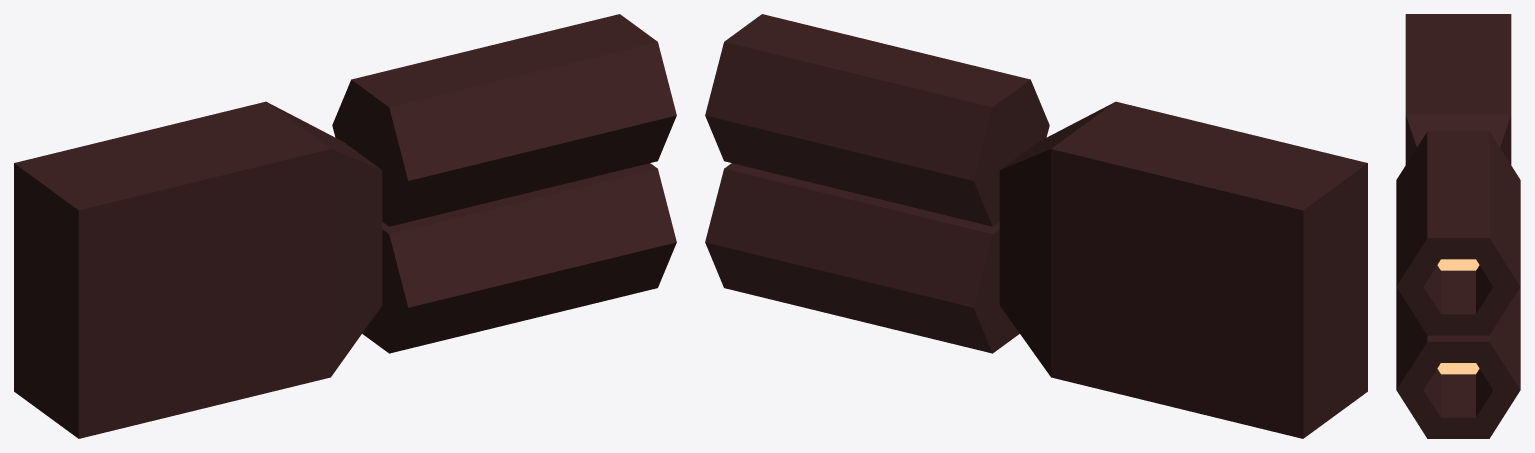
Rendered from DoubleCannon.fbx.
The picture shows the model from 3 angles, left to right: view 1: azimuth 30°, elevation 25°; view 2: azimuth 150°, elevation 25°; view 3: azimuth 270°, elevation 25°; orthographic projection. The views are drawn at different scales.
Visible parts, largest first — view 1: Cube.018, Cylinder.019, Cylinder.022; view 2: Cube.018, Cylinder.019, Cylinder.022; view 3: Cylinder.019, Cube.018, Cylinder.022.
Boxes of the visible parts, bbox=[...] form: Cube.018: bbox=[14, 101, 382, 438]; Cylinder.019: bbox=[332, 14, 676, 226]; Cylinder.022: bbox=[362, 163, 676, 353]; Cube.018: bbox=[999, 101, 1367, 438]; Cylinder.019: bbox=[705, 14, 1049, 226]; Cylinder.022: bbox=[705, 163, 1019, 353]; Cylinder.019: bbox=[1396, 131, 1520, 335]; Cube.018: bbox=[1405, 14, 1511, 164]; Cylinder.022: bbox=[1396, 287, 1520, 438].
Bounding box in the file's own units: 0.7041 × 3.17 × 1.26.
